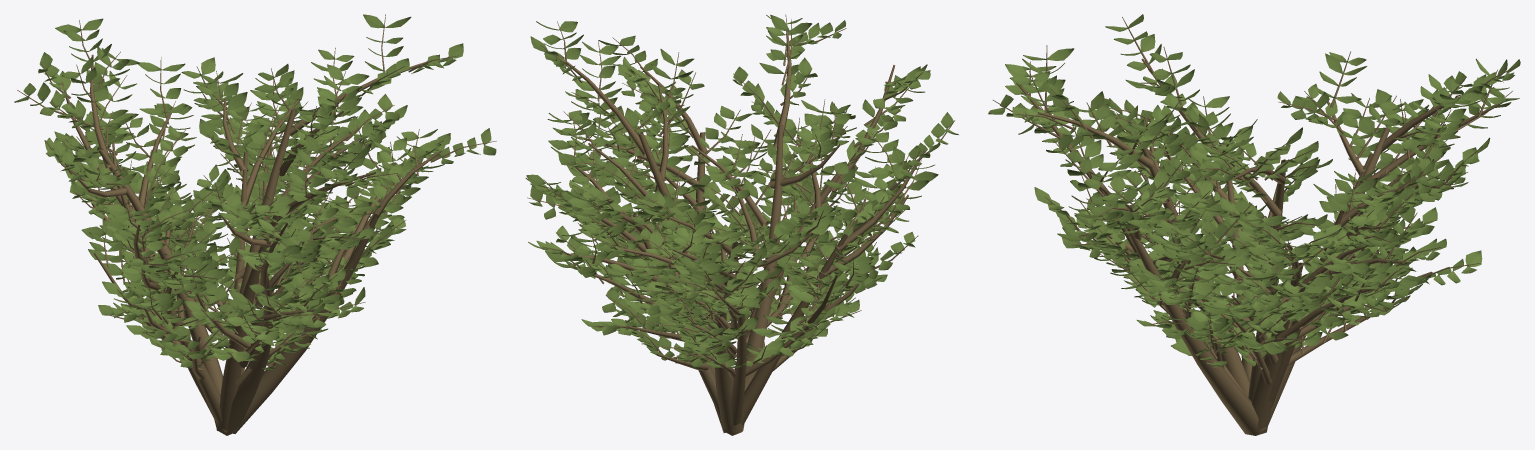
The model's file is Lentisque_1_High.fbx.
3 renders of one model, left to right at view 1: azimuth 30°, elevation 25°; view 2: azimuth 150°, elevation 25°; view 3: azimuth 270°, elevation 25°, orthographic. The views are drawn at different scales.
Parts seen in each view (by area): view 1: Lentisque_1_High; view 2: Lentisque_1_High; view 3: Lentisque_1_High.
Boxes of the visible parts, x1,y1,x2,y2 form: Lentisque_1_High: (14, 14, 496, 435); Lentisque_1_High: (525, 14, 958, 435); Lentisque_1_High: (988, 14, 1520, 435).
Size of the model in its own units: 186 by 165 by 205.
